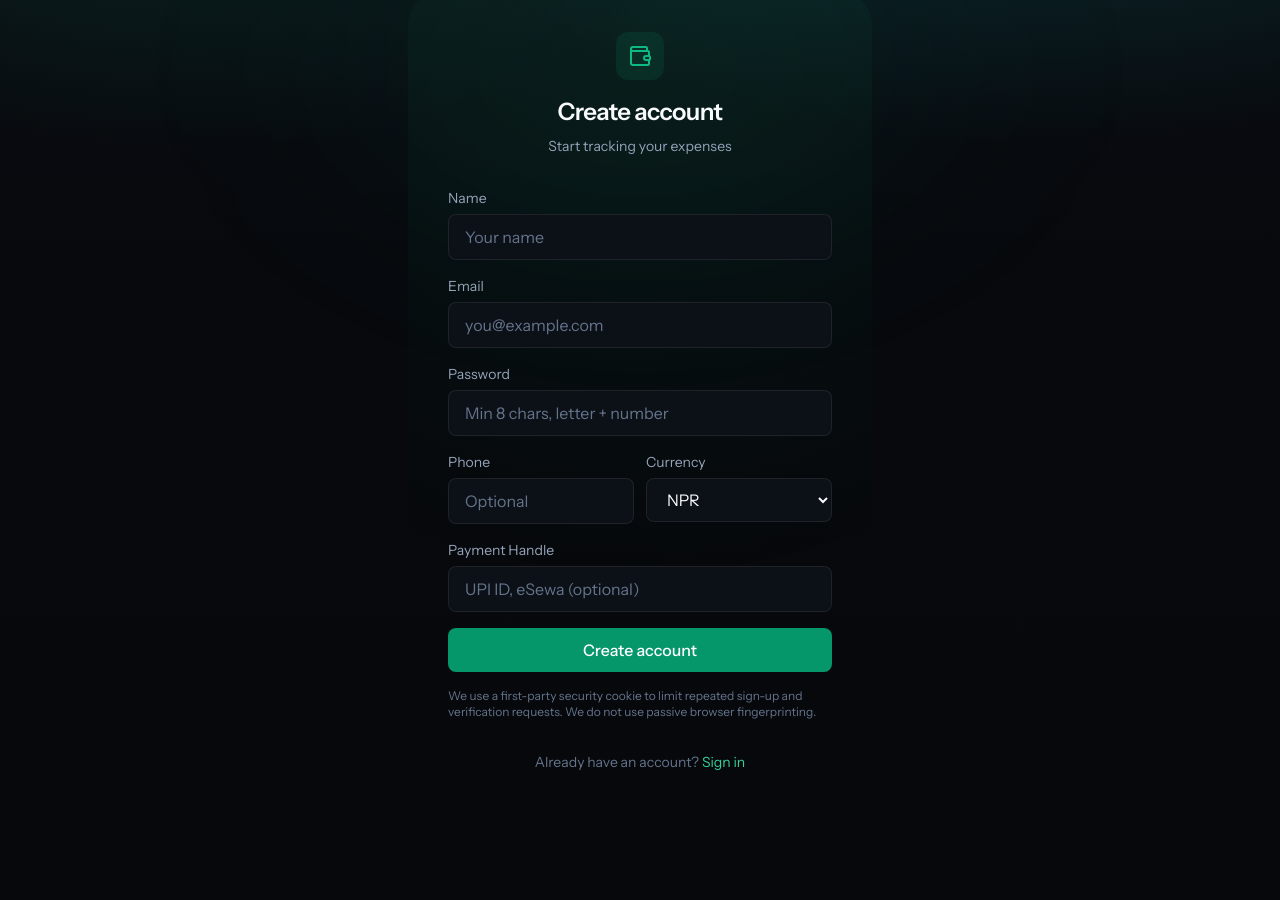
Scenario: RegisterPage validation › shows account-neutral verification guidance without creating a client session
The image size is (1280, 900).
Later steps or results of the test are not shown.
Type "Test User" into the field with placeholder "Your name" at [640, 237], box [448,214,832,260]
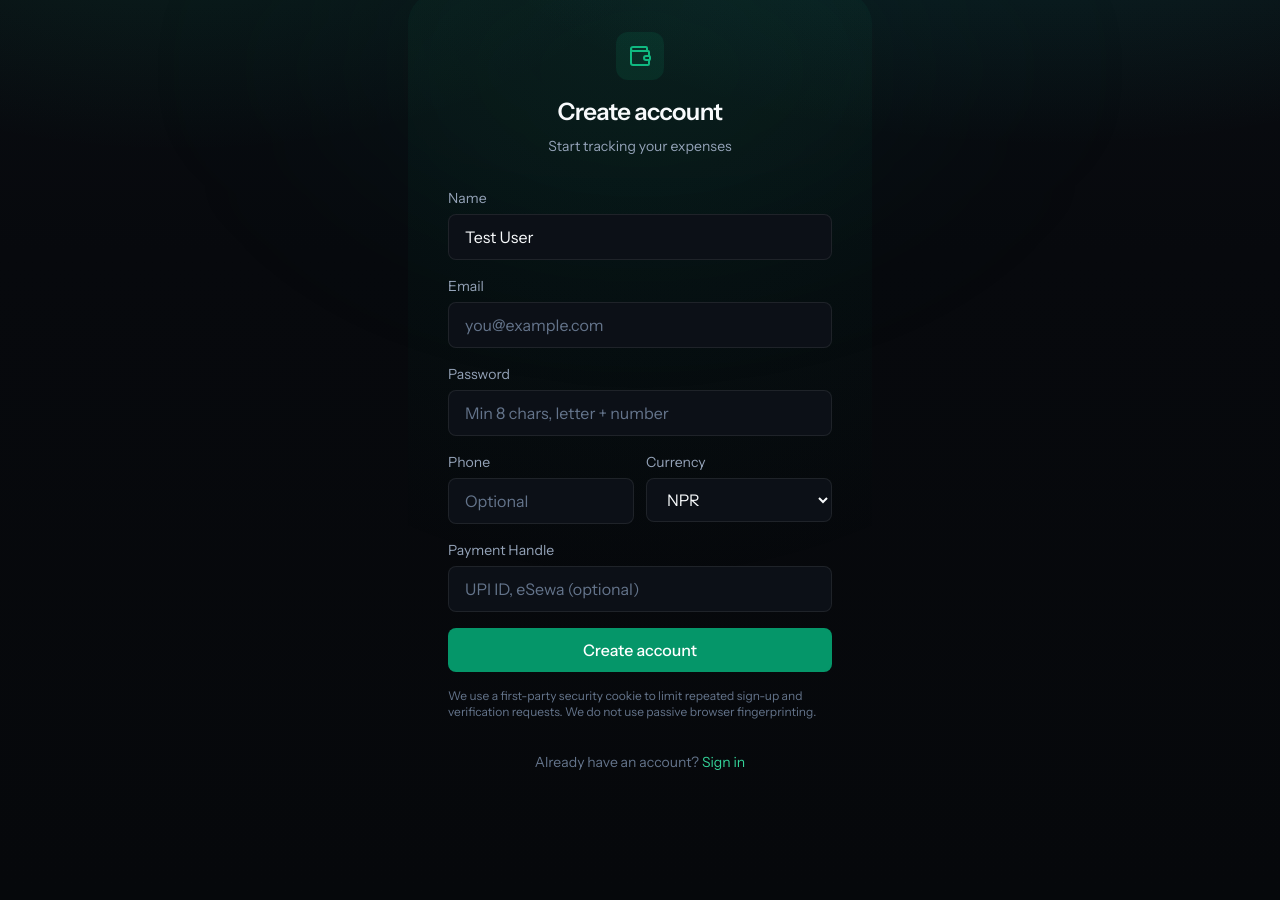
Type "test@example.com" into the field with placeholder "you@example.com" at [640, 325], box [448,302,832,348]
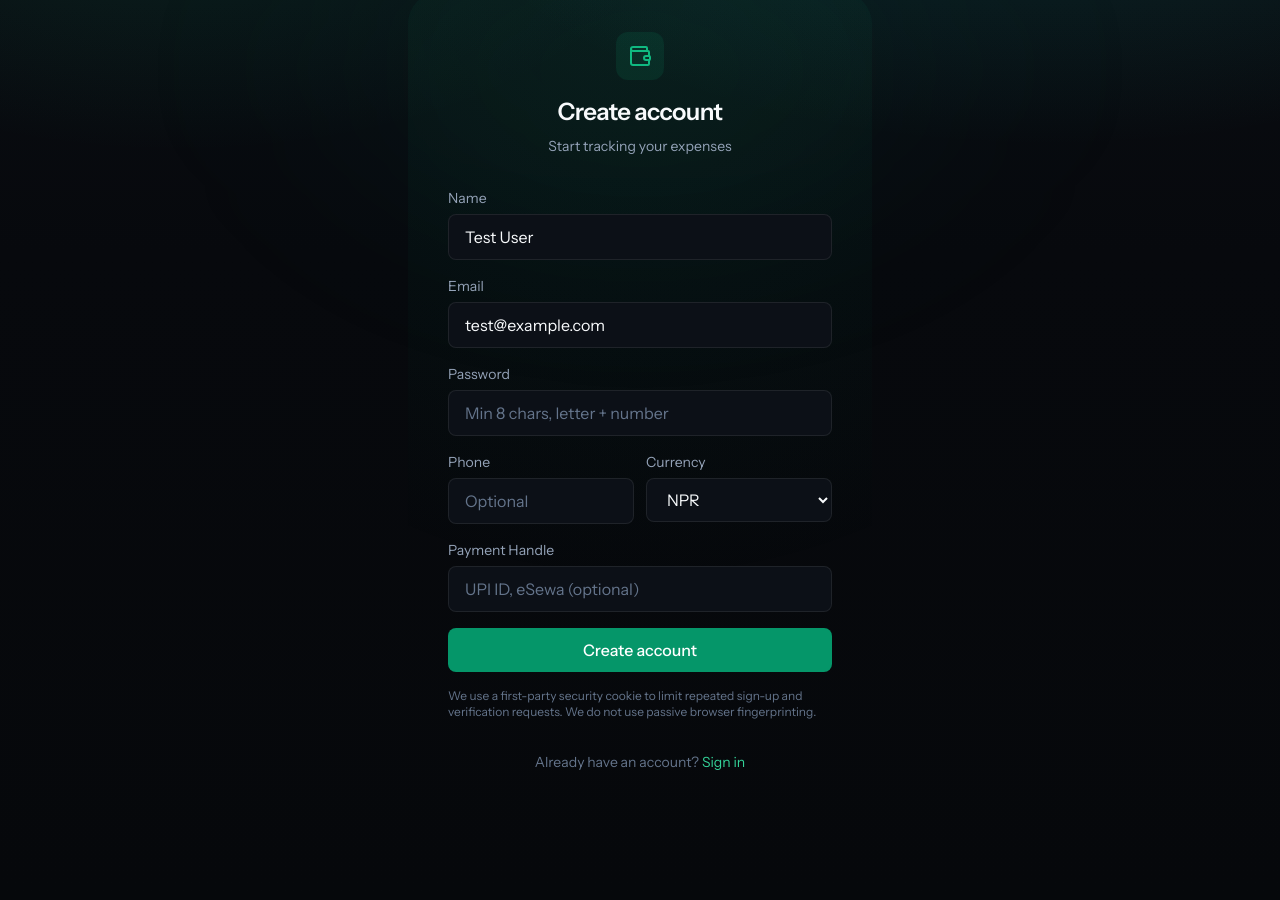
Type "ValidPass123" into the password field with placeholder "Min 8 chars, letter + number" at [640, 413], box [448,390,832,436]
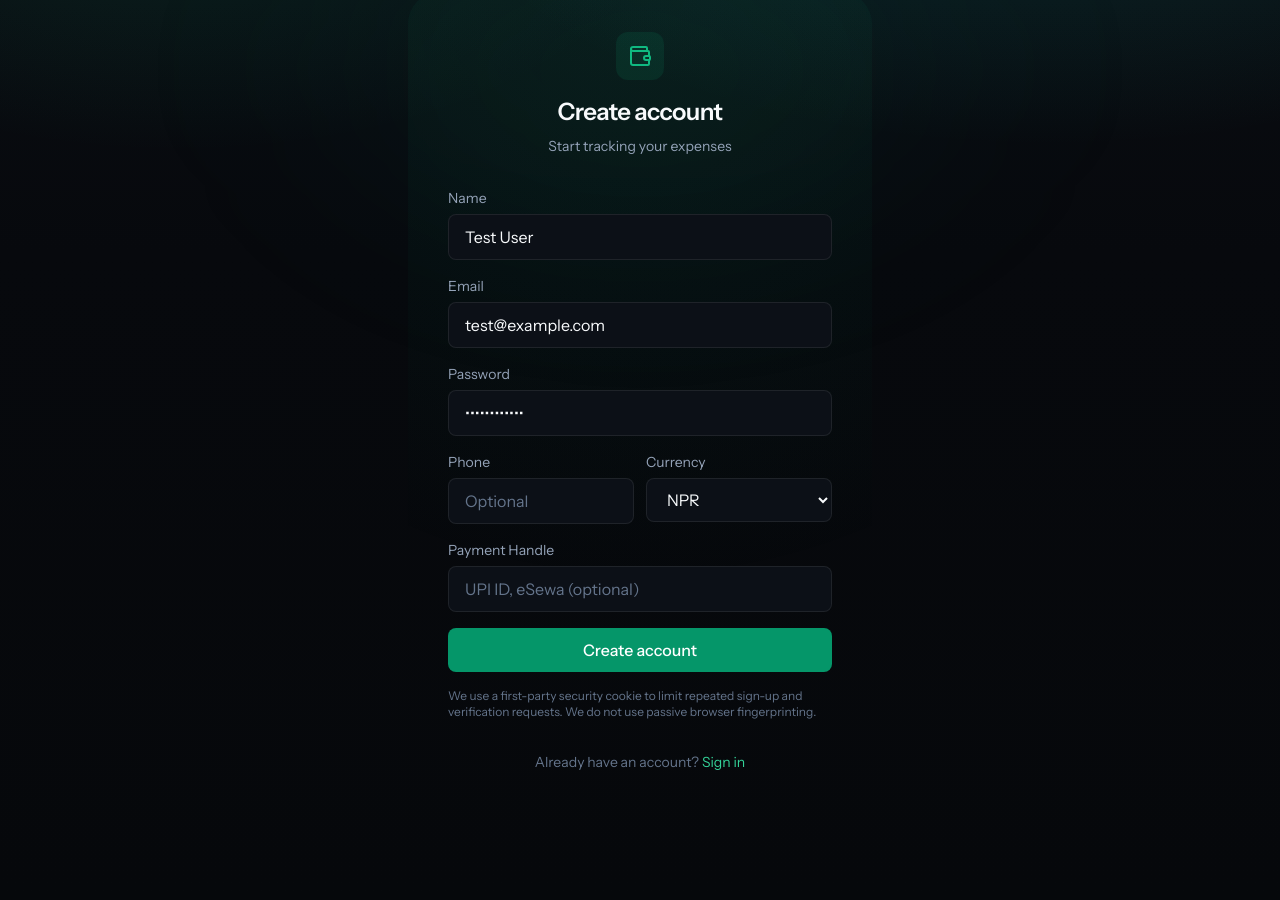
Click the button "Create account" at [640, 650], box [448,628,832,672]
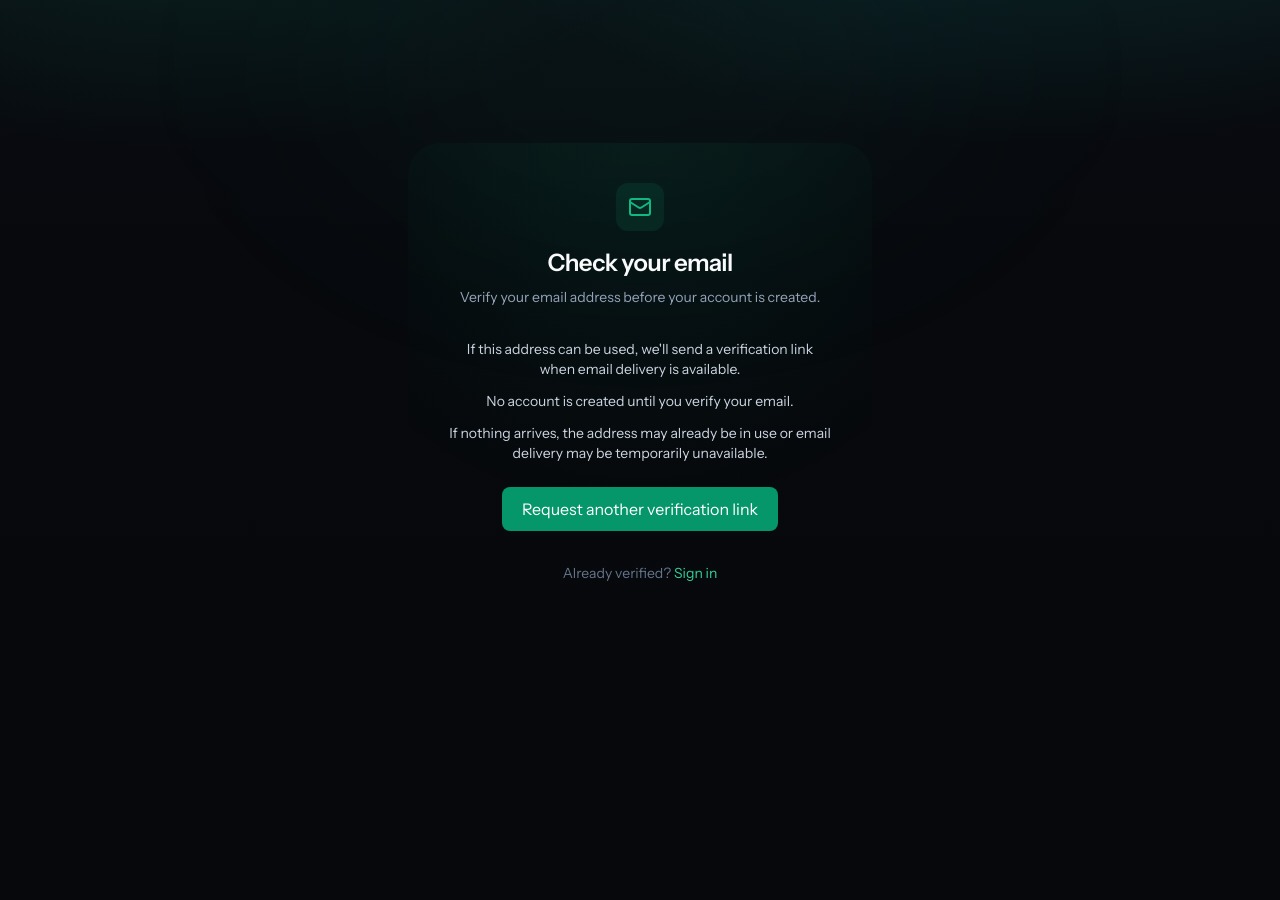
Expected: the heading "Check your email" is shown, [548,248,733,276]
Expected: the text "if this address can be used, we.ll send a verification link" is shown, [467,340,813,378]
Expected: the text "No account is created until you verify your email." is shown, [486,392,794,410]
